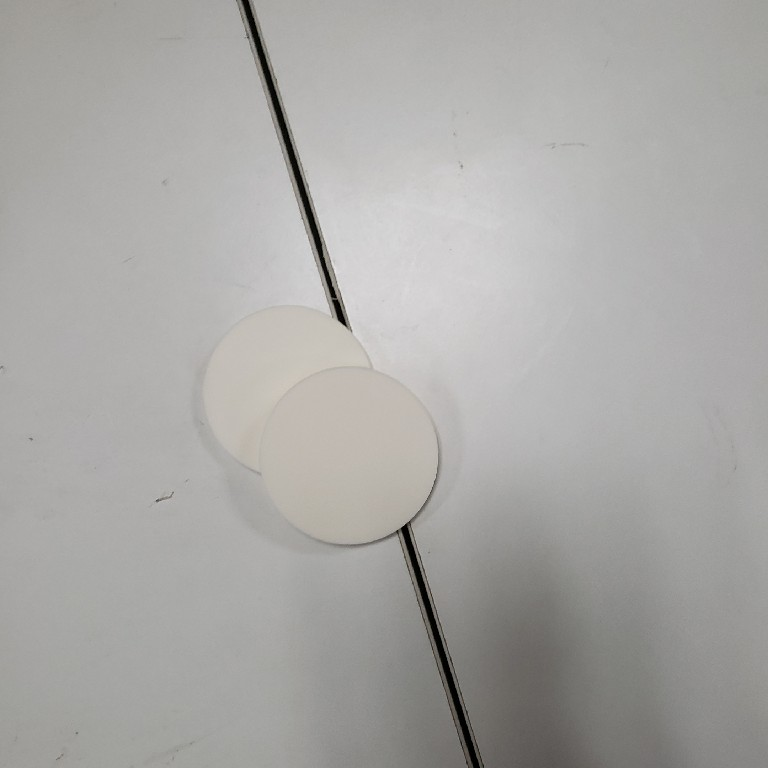ceramics: (195, 301, 446, 553)
